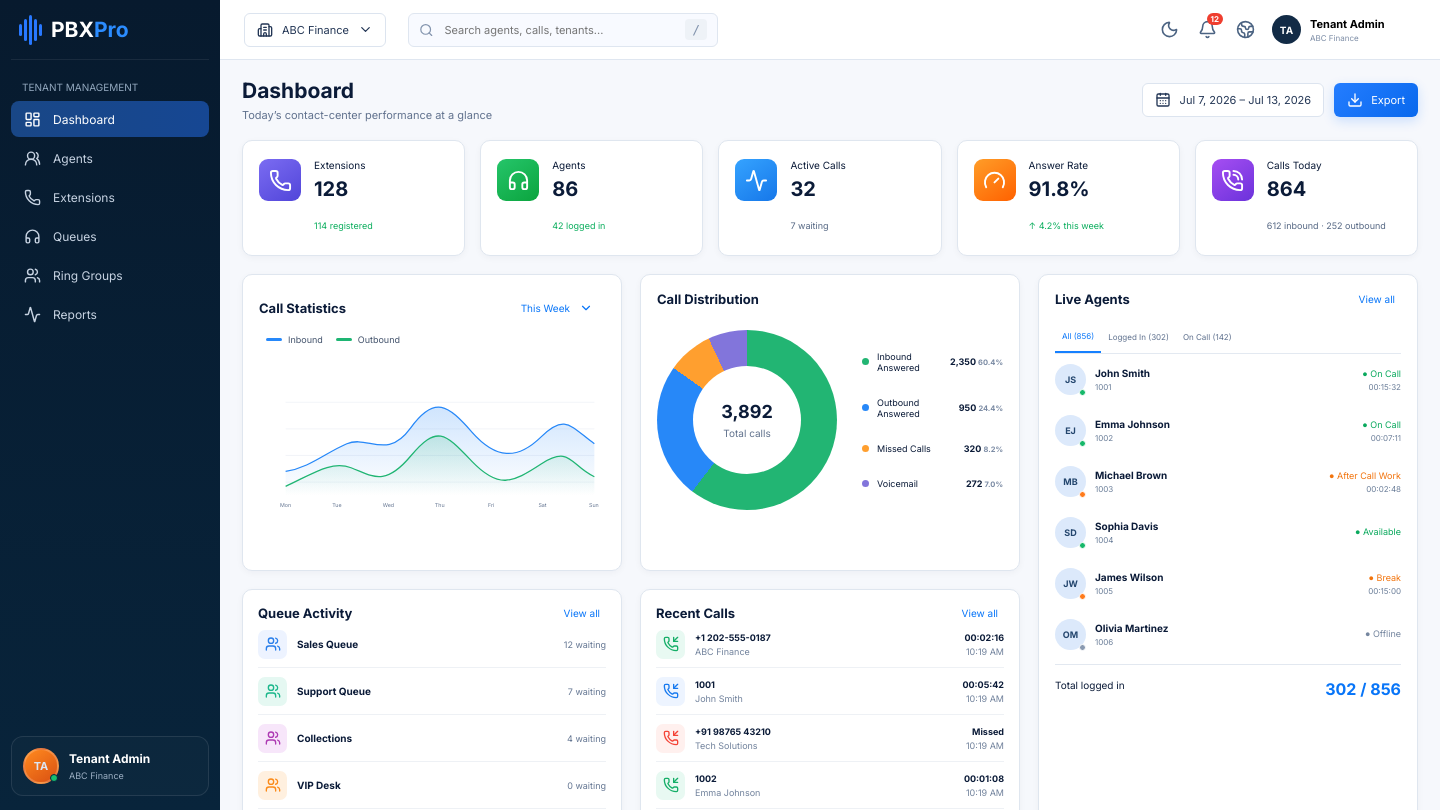
Test: Tenant Admin provisioning › loads extensions and opens the extension form
Click the button "Extensions": coordinates (110, 197) [11,179,209,215]
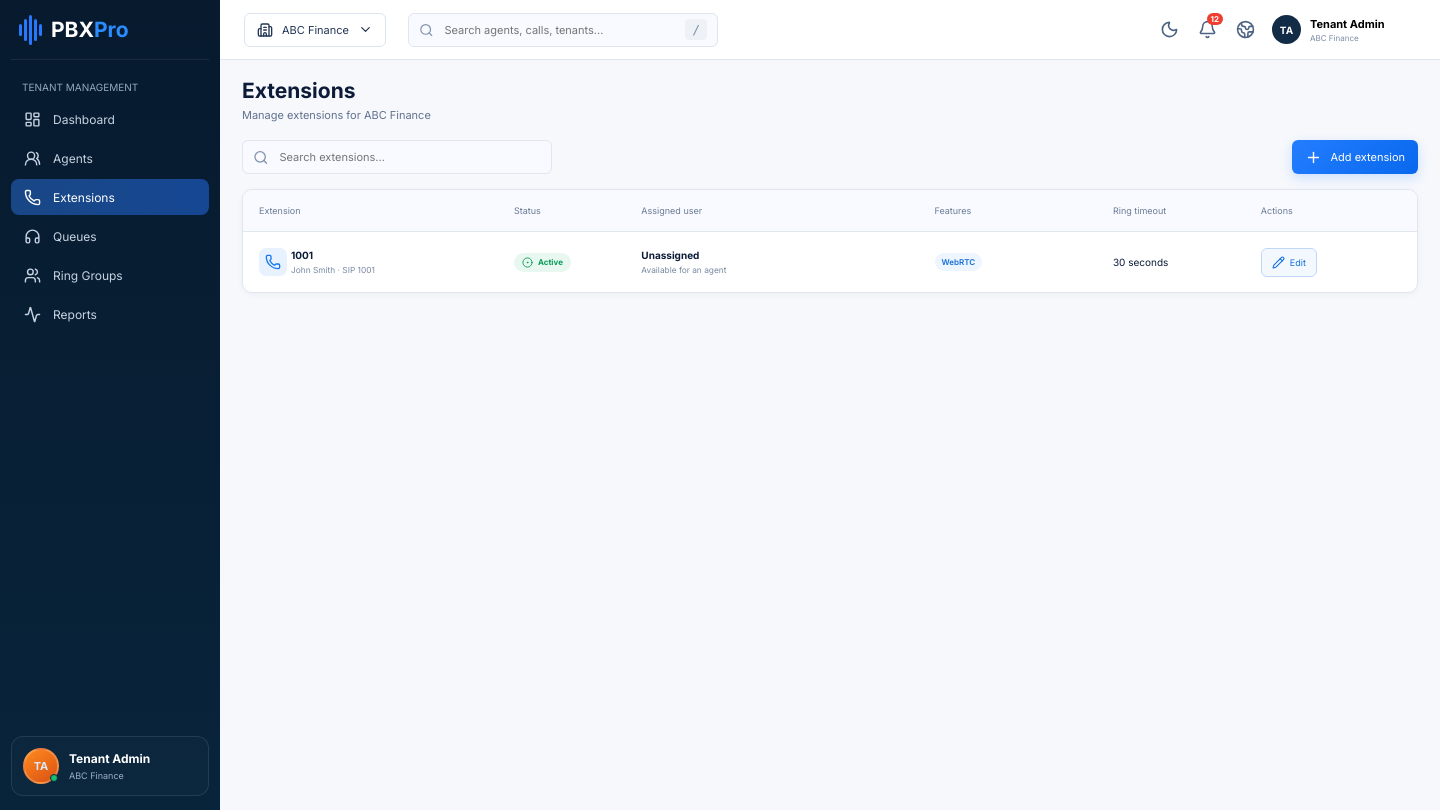
Now the text "John Smith · SIP 1001" is shown, box [291,265,375,275]
Click the button "Add extension": coordinates (1355, 157) [1292,140,1418,174]
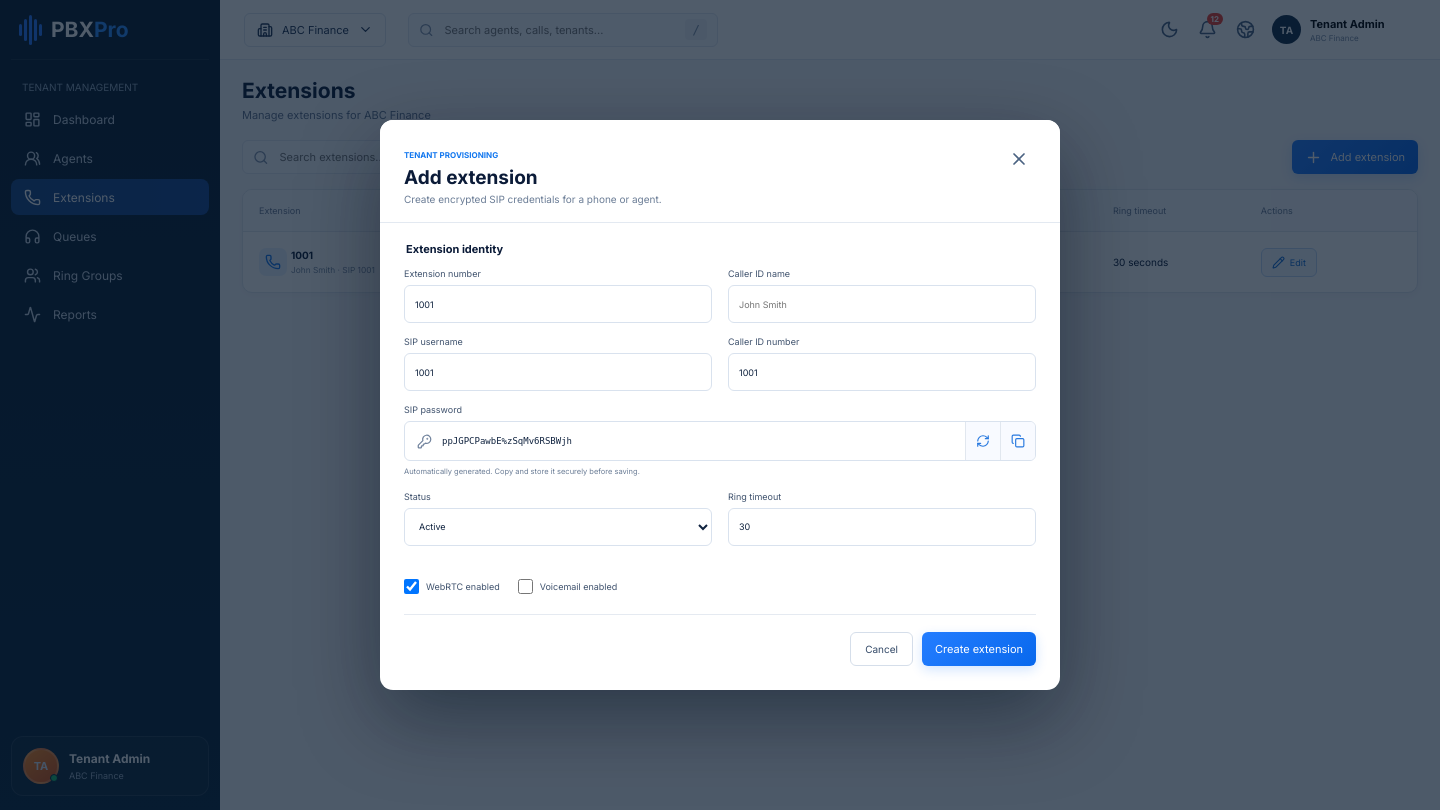
Now the heading "Add extension" is shown, box [404,166,538,189]
